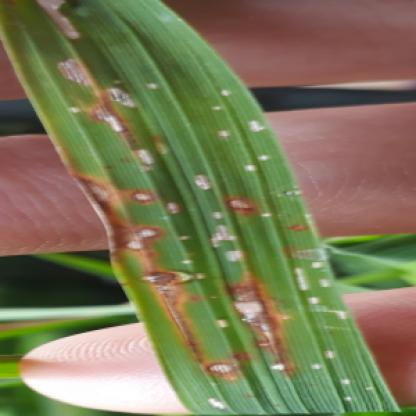Rice blast: (147, 256, 238, 391), (70, 156, 162, 266), (219, 265, 296, 369), (69, 85, 151, 150), (224, 181, 276, 238)
